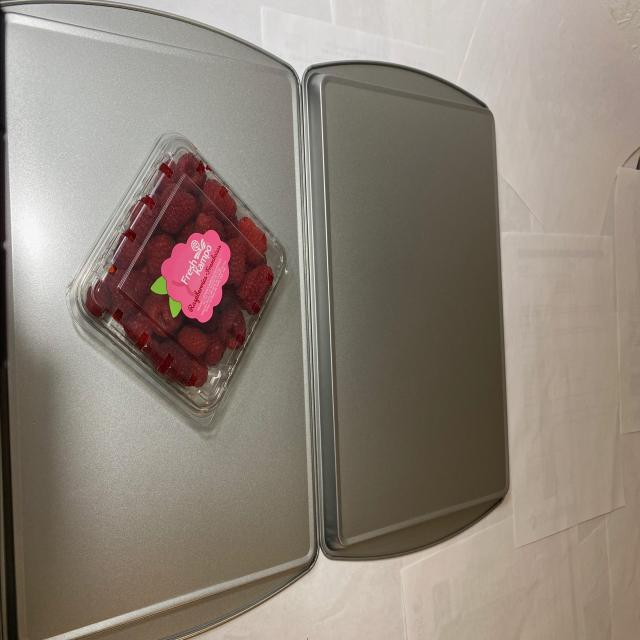Raspberry: (88, 151, 271, 389)
